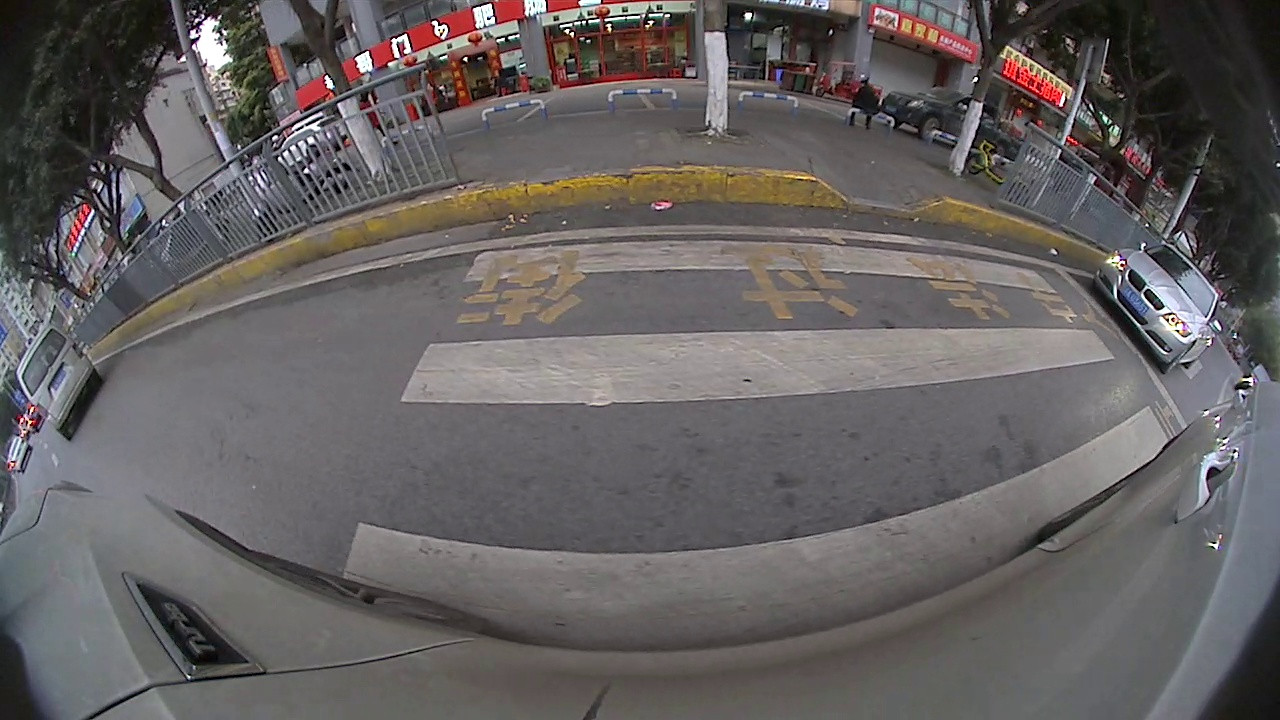car: (1089, 236, 1225, 378), (13, 317, 106, 442), (879, 82, 1030, 158)
person: (849, 70, 885, 138)
rider: (962, 136, 1028, 201)
